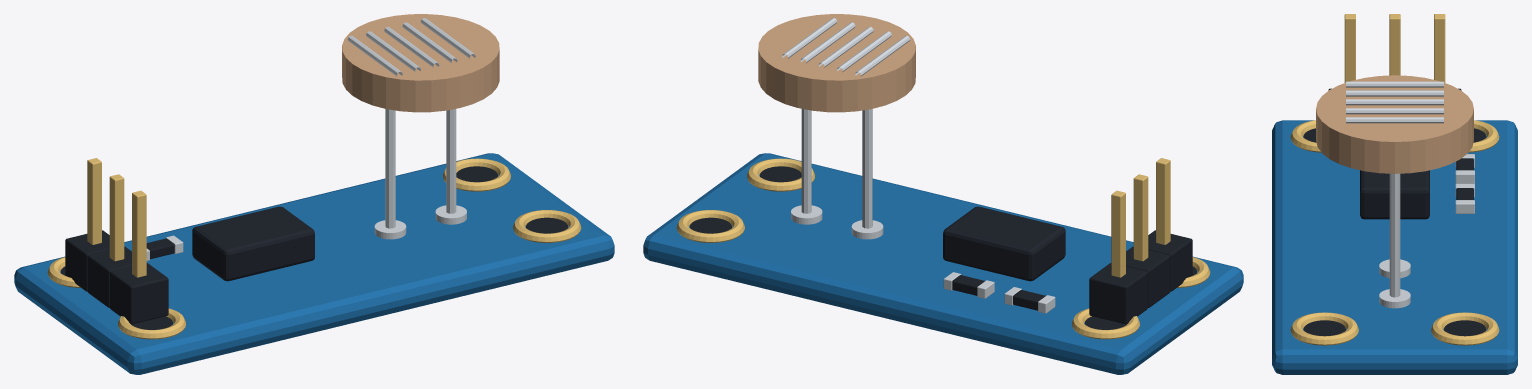
Rendered from light-sensor.glb.
3 renders of one model, left to right at view 1: azimuth 30°, elevation 25°; view 2: azimuth 150°, elevation 25°; view 3: azimuth 270°, elevation 25°, orthographic.
Visible parts, largest first — view 1: Static body • blue, Static body • black, Static body • ceramic, Static body • gold, Static body • silver; view 2: Static body • blue, Static body • black, Static body • ceramic, Static body • gold, Static body • silver; view 3: Static body • blue, Static body • ceramic, Static body • silver, Static body • gold, Static body • black.
Boxes of the visible parts, box(x1,y1,x2,y2) form: Static body • blue: box(14, 153, 614, 374); Static body • black: box(61, 166, 567, 329); Static body • ceramic: box(342, 14, 499, 112); Static body • gold: box(47, 158, 581, 339); Static body • silver: box(146, 18, 475, 260); Static body • blue: box(643, 153, 1243, 374); Static body • black: box(690, 166, 1196, 329); Static body • ceramic: box(758, 14, 915, 112); Static body • gold: box(676, 158, 1210, 339); Static body • silver: box(782, 18, 1055, 313); Static body • blue: box(1272, 120, 1517, 374); Static body • ceramic: box(1316, 75, 1473, 173); Static body • silver: box(1346, 81, 1474, 308); Static body • gold: box(1290, 14, 1499, 345); Static body • black: box(1303, 88, 1486, 336).
Size of the model in its own units: 32 by 13.1 by 14.
